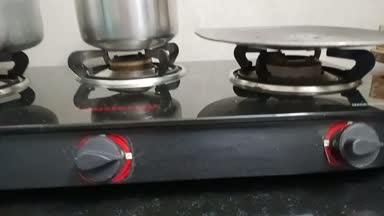flame_gas_off: (246, 46, 384, 174), (68, 43, 186, 191)
